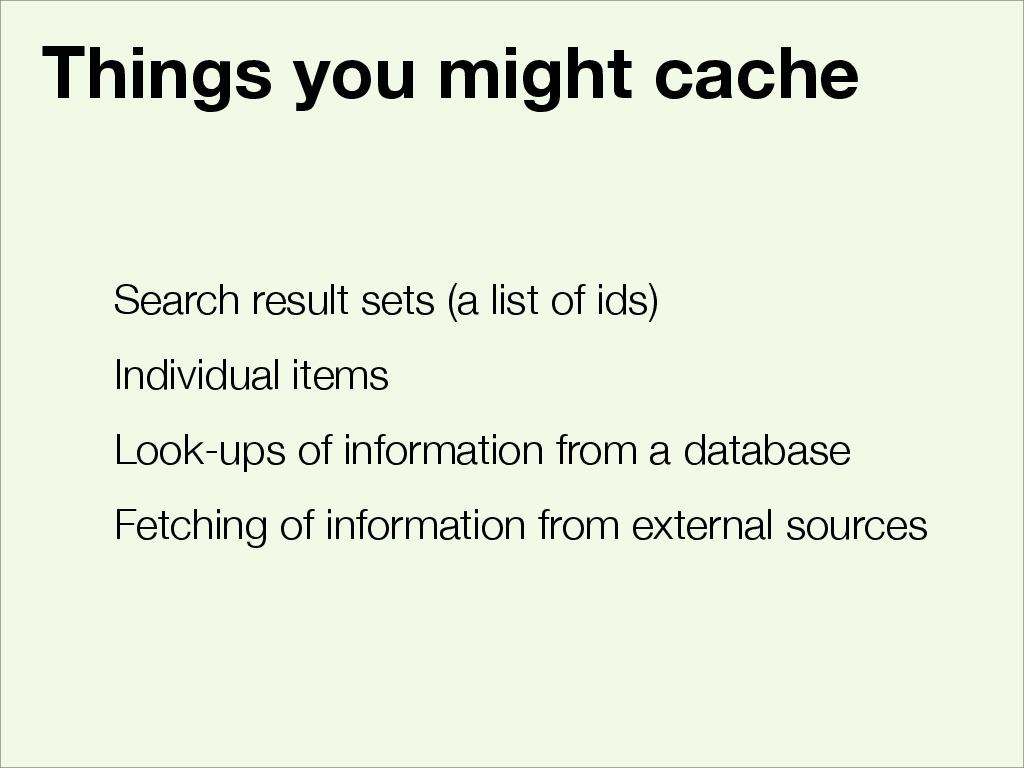paragraph: (102, 264, 962, 575)
title: (35, 26, 868, 119)
